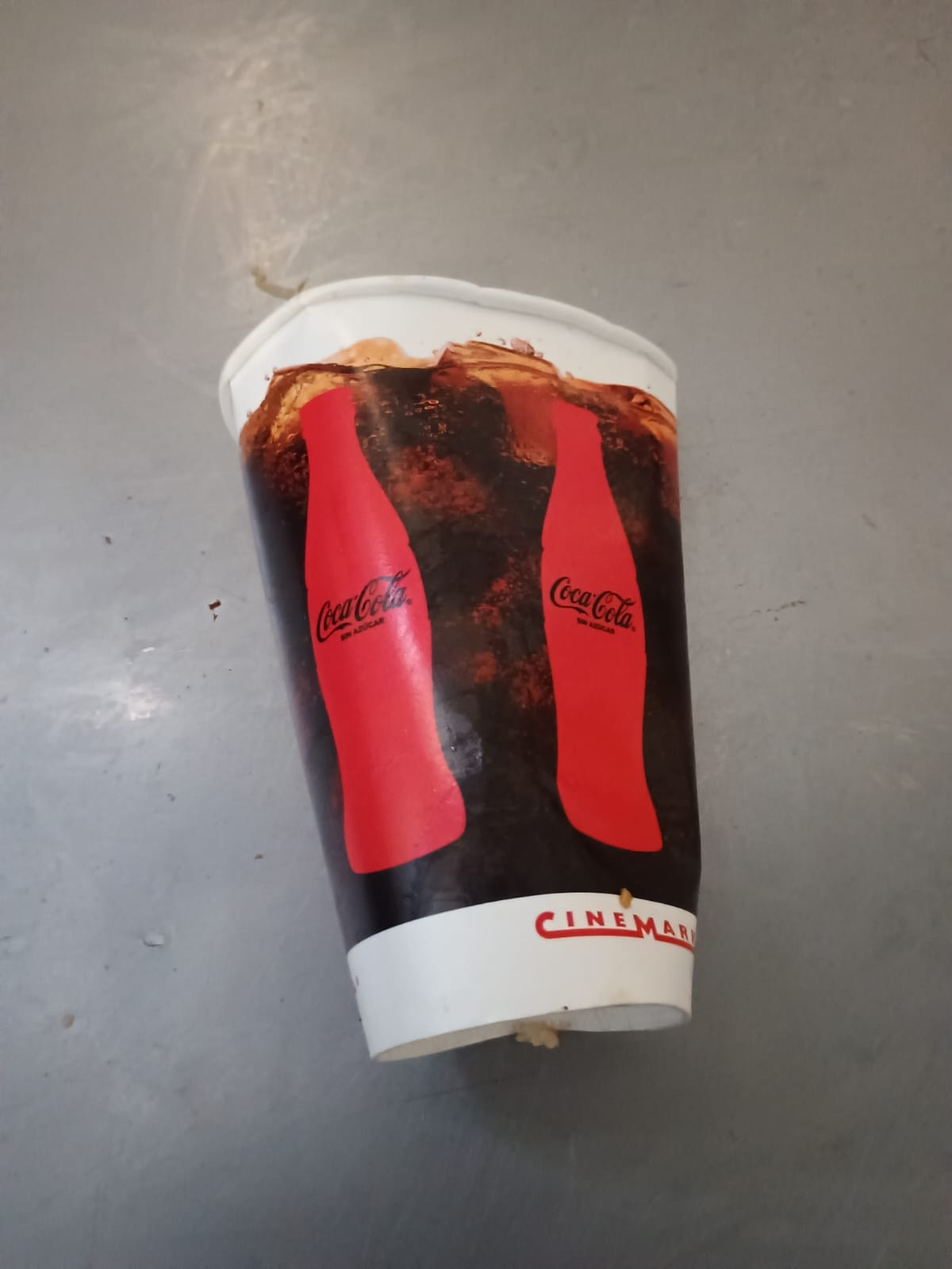Carton: (220, 271, 698, 1062)
